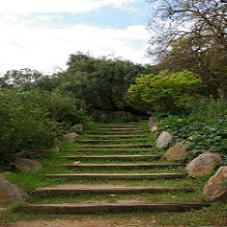Stair Up: (11, 122, 209, 222)
